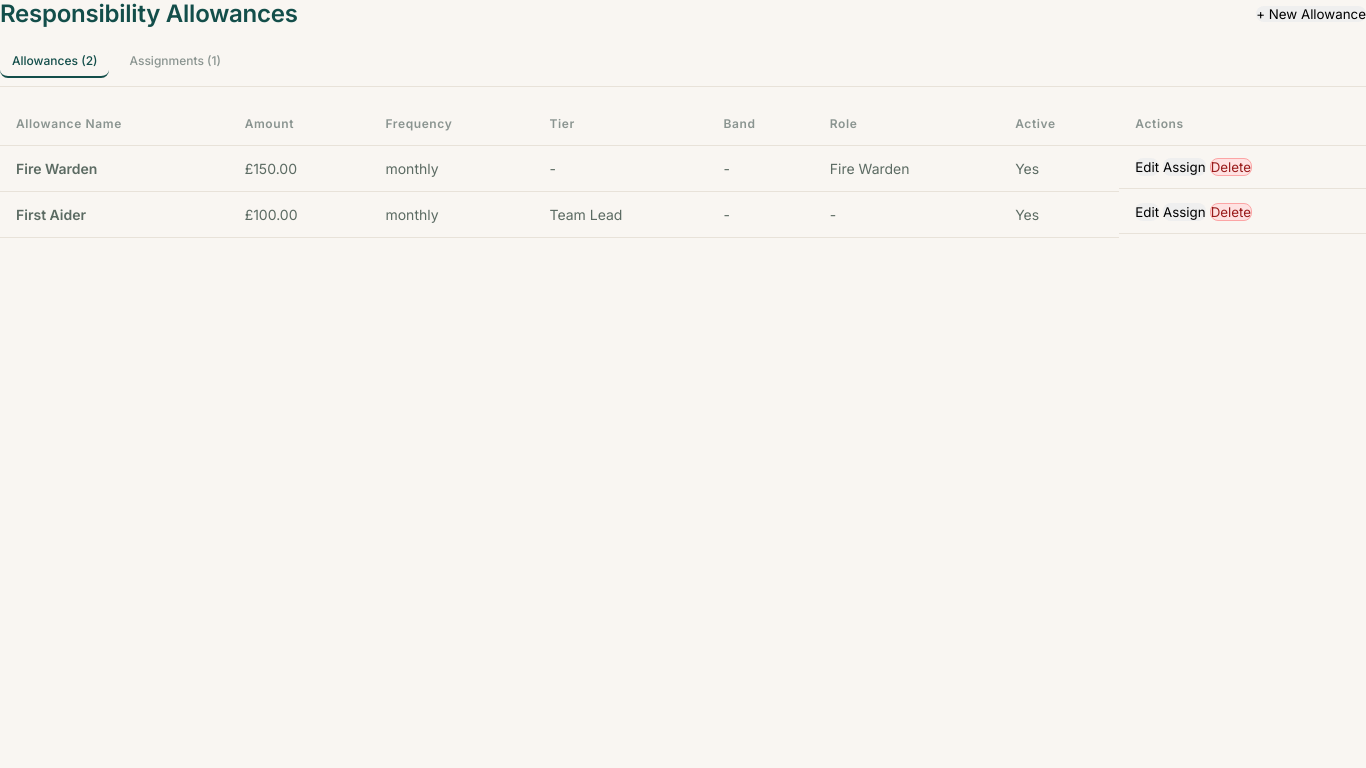
Test: ResponsibilityAllowanceManager › opens create modal when button clicked
Click the button "+ New Allowance".
click(1311, 14)  # box [1256,6,1365,22]
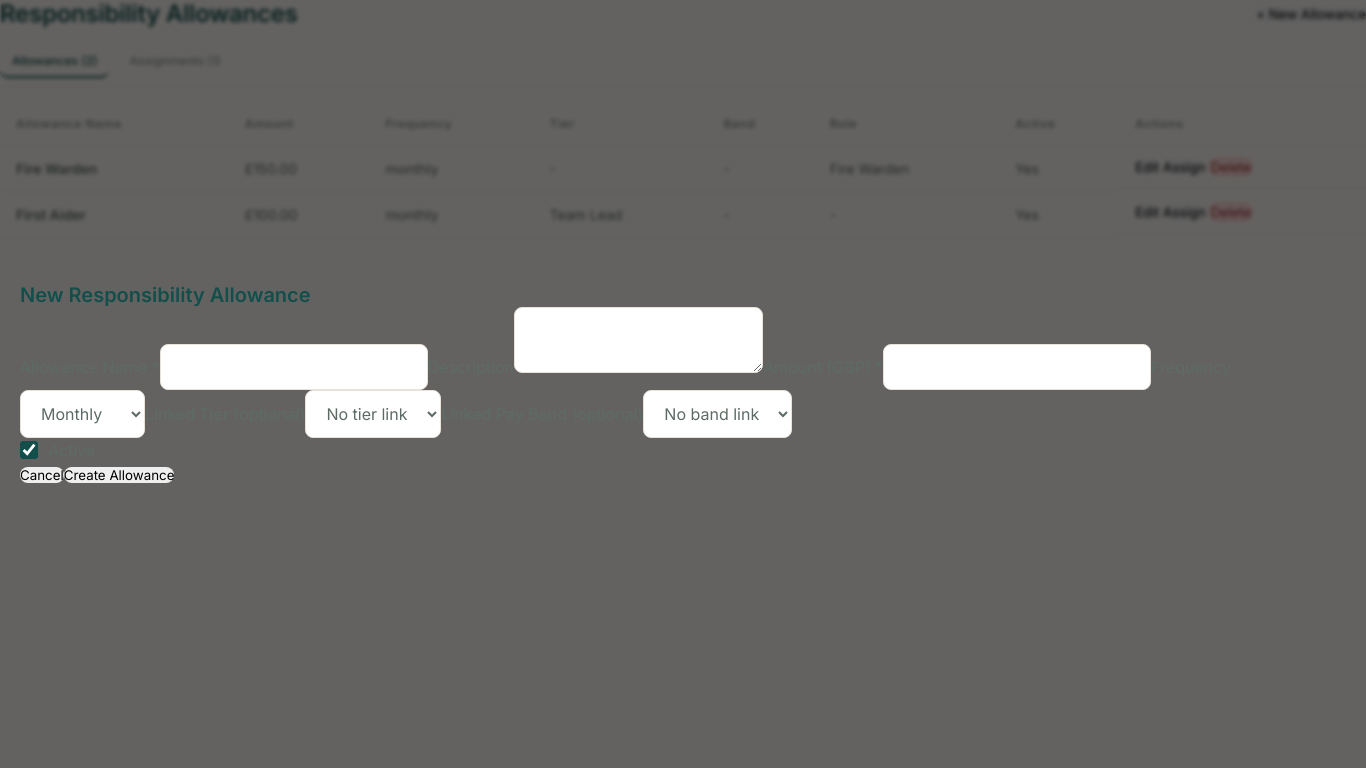
Expected: the heading "New Responsibility Allowance" is shown, [20,282,311,306]
